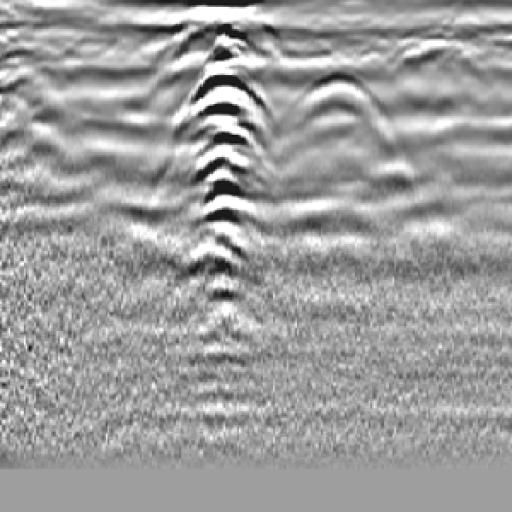metalic: (152, 24, 285, 399)
nonmetalic: (267, 60, 451, 207)
